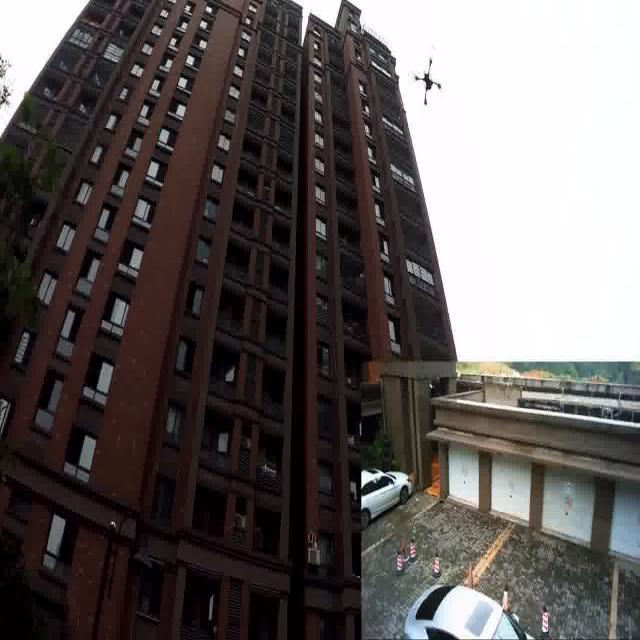drones: (408, 50, 450, 107)
